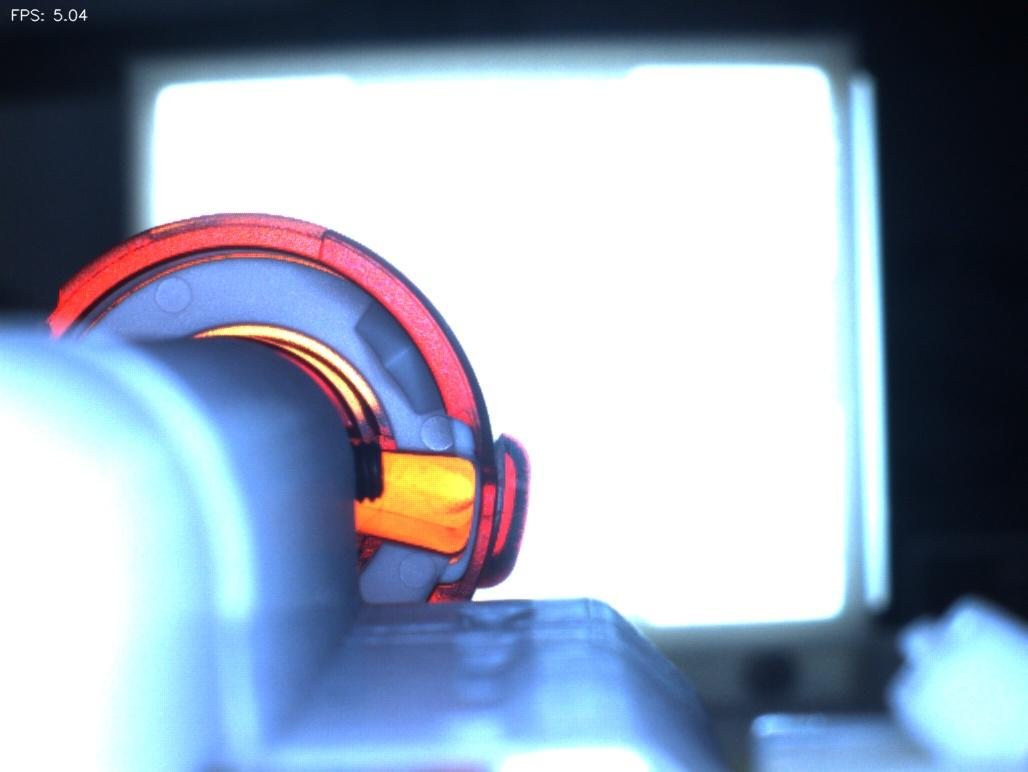Retassure: (382, 452, 477, 524)
